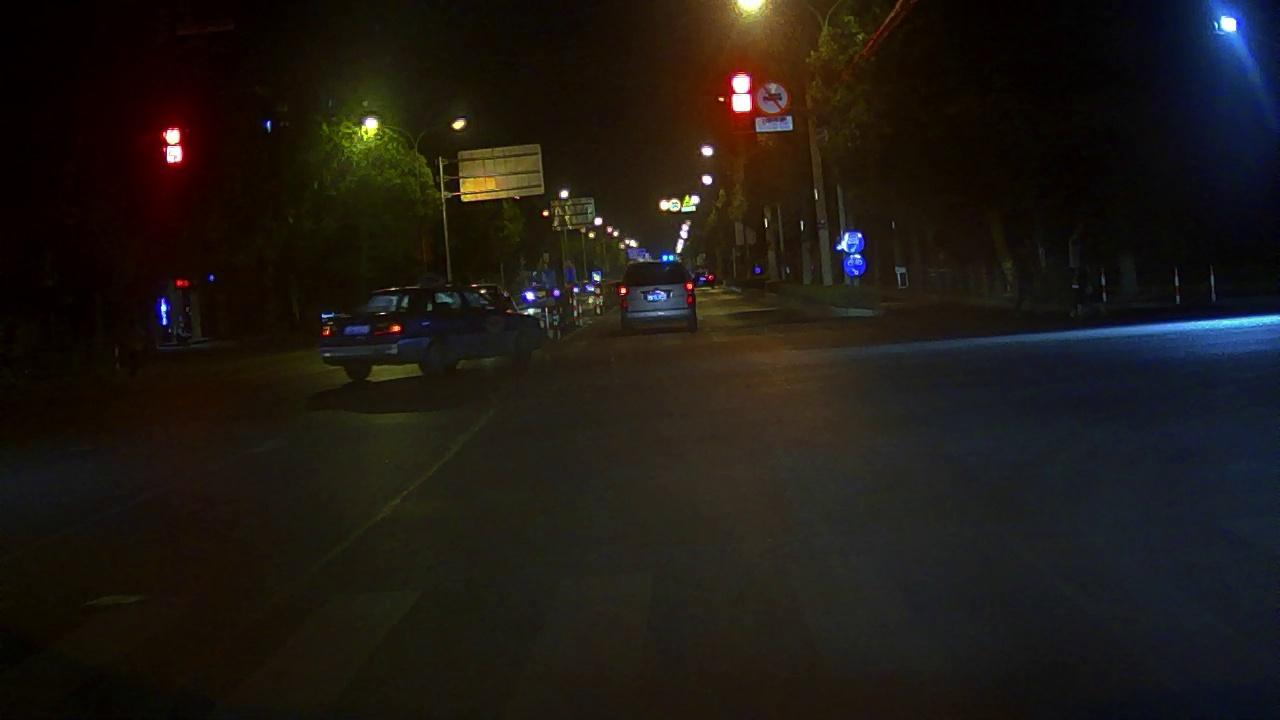traffic_light: (157, 120, 186, 171), (726, 68, 754, 119)
